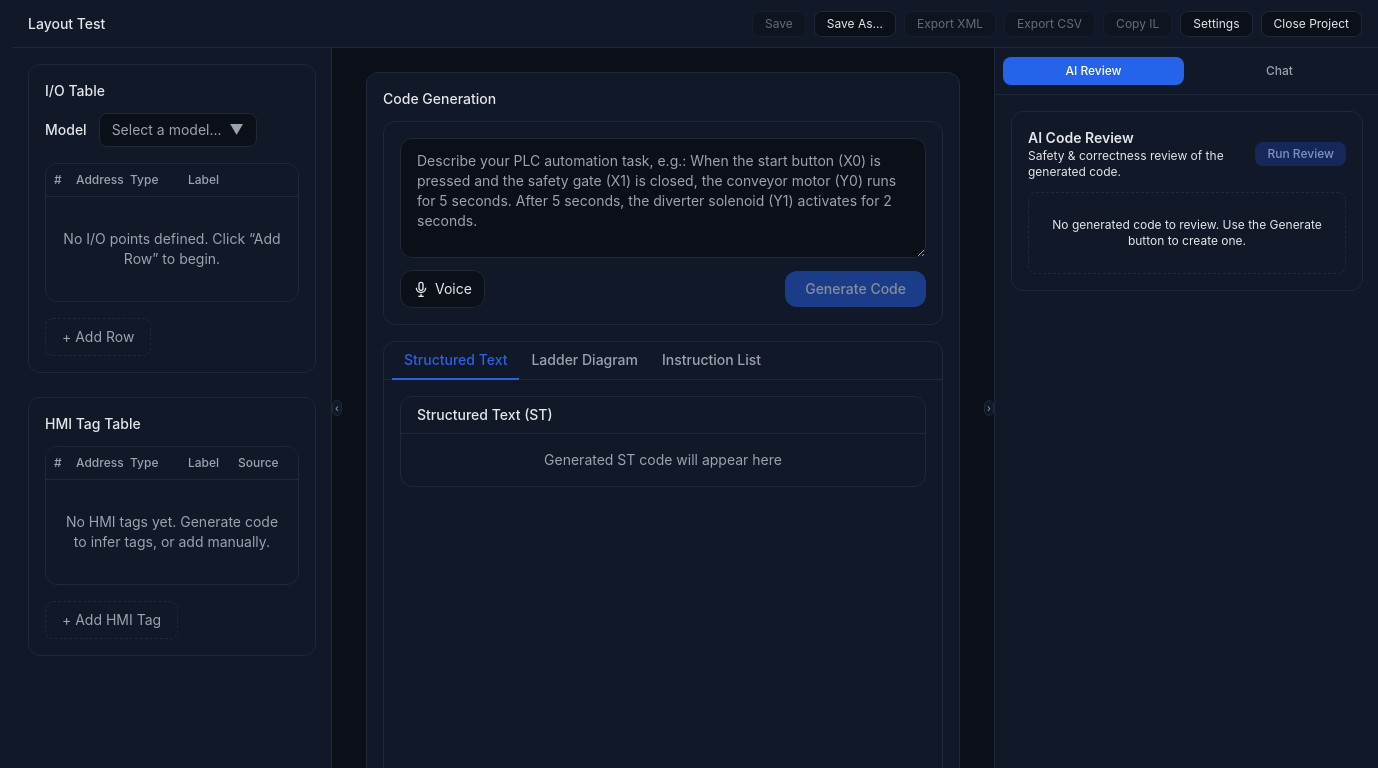
Scenario: ProjectLayout — collapsible sidebars (M10.3.4) › collapses the left sidebar when its toggle button is clicked
Click the button with test id "toggle-left-sidebar" at (337, 408), box [332,48,342,767]
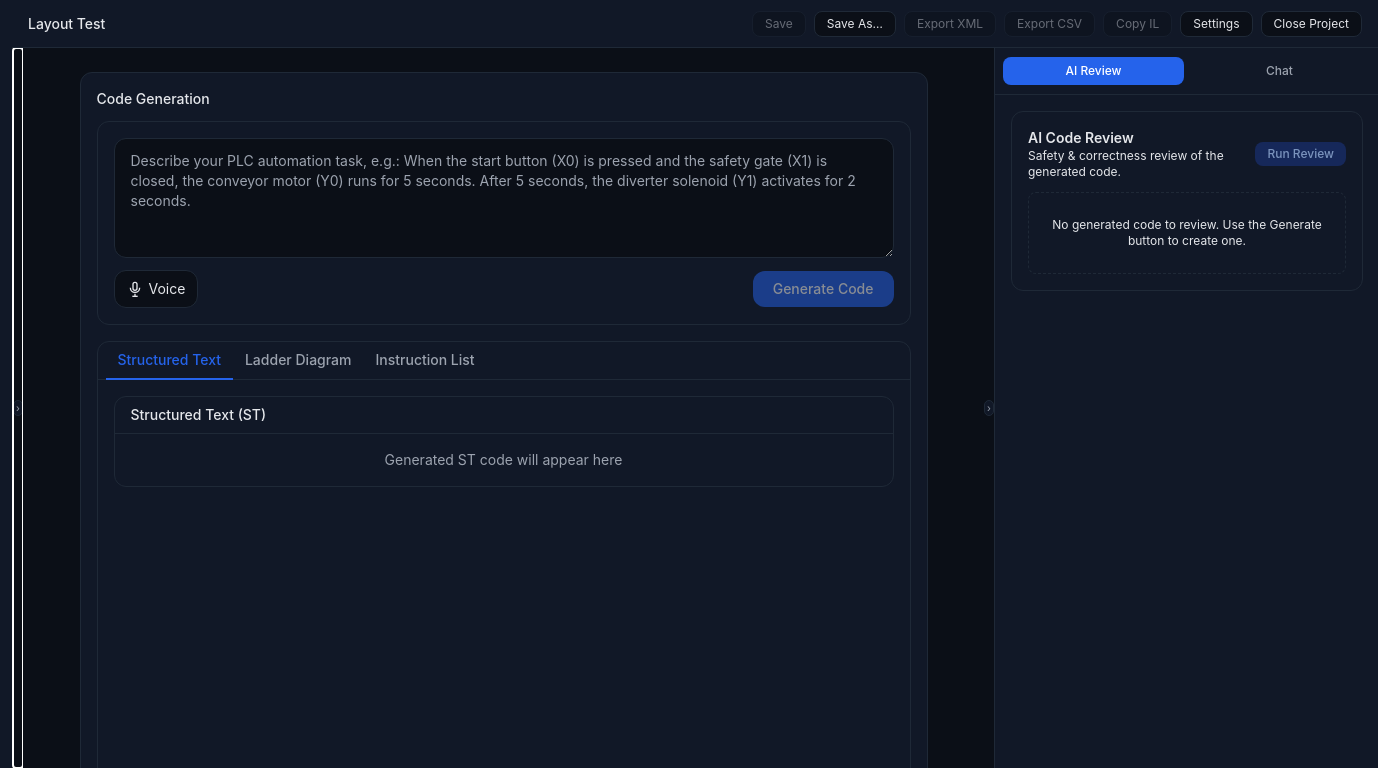
Now the button with test id "toggle-left-sidebar" reads "›"
Now the button with test id "toggle-left-sidebar" is collapsed
Click the button with test id "toggle-left-sidebar" at (18, 408), box [13,48,23,767]
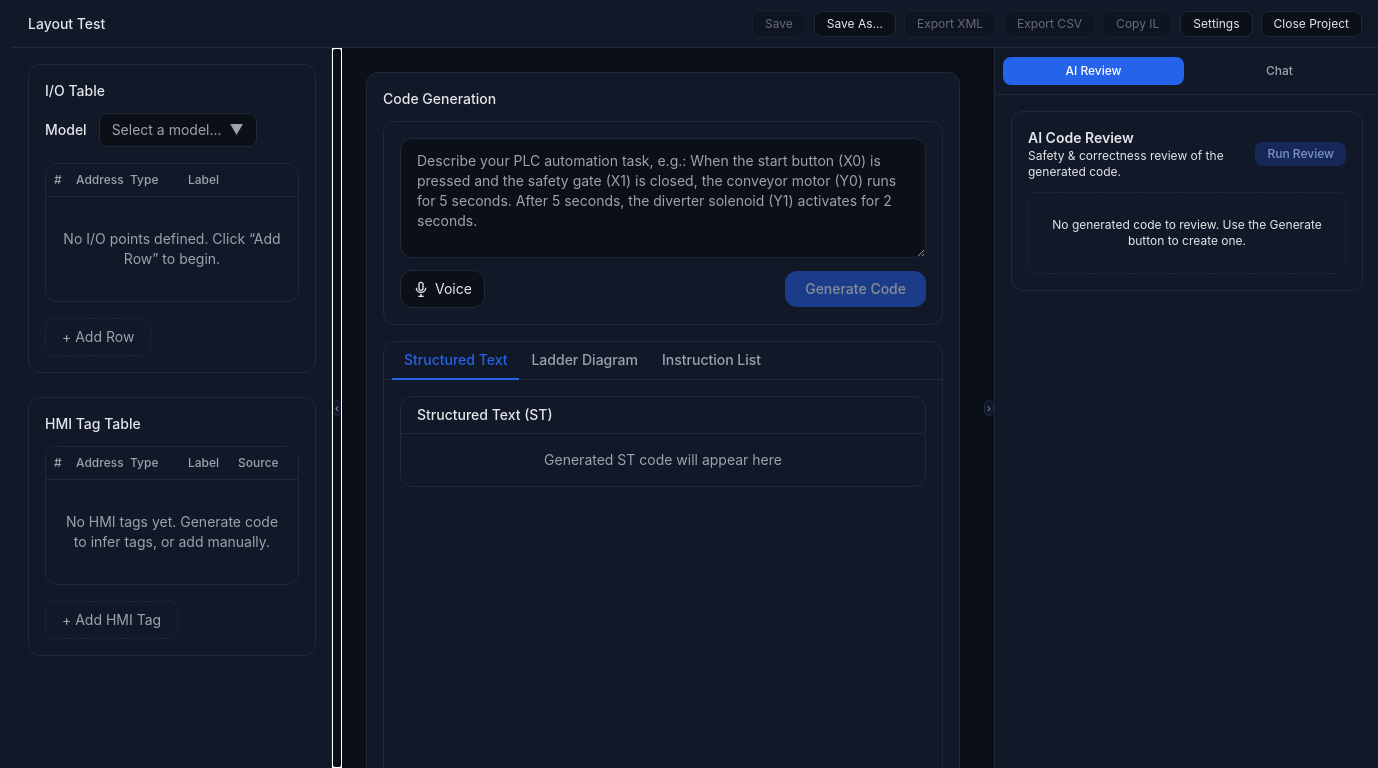
Now the button with test id "toggle-left-sidebar" reads "‹", box [332,48,342,767]
Now the button with test id "toggle-left-sidebar" is expanded, box [332,48,342,767]
